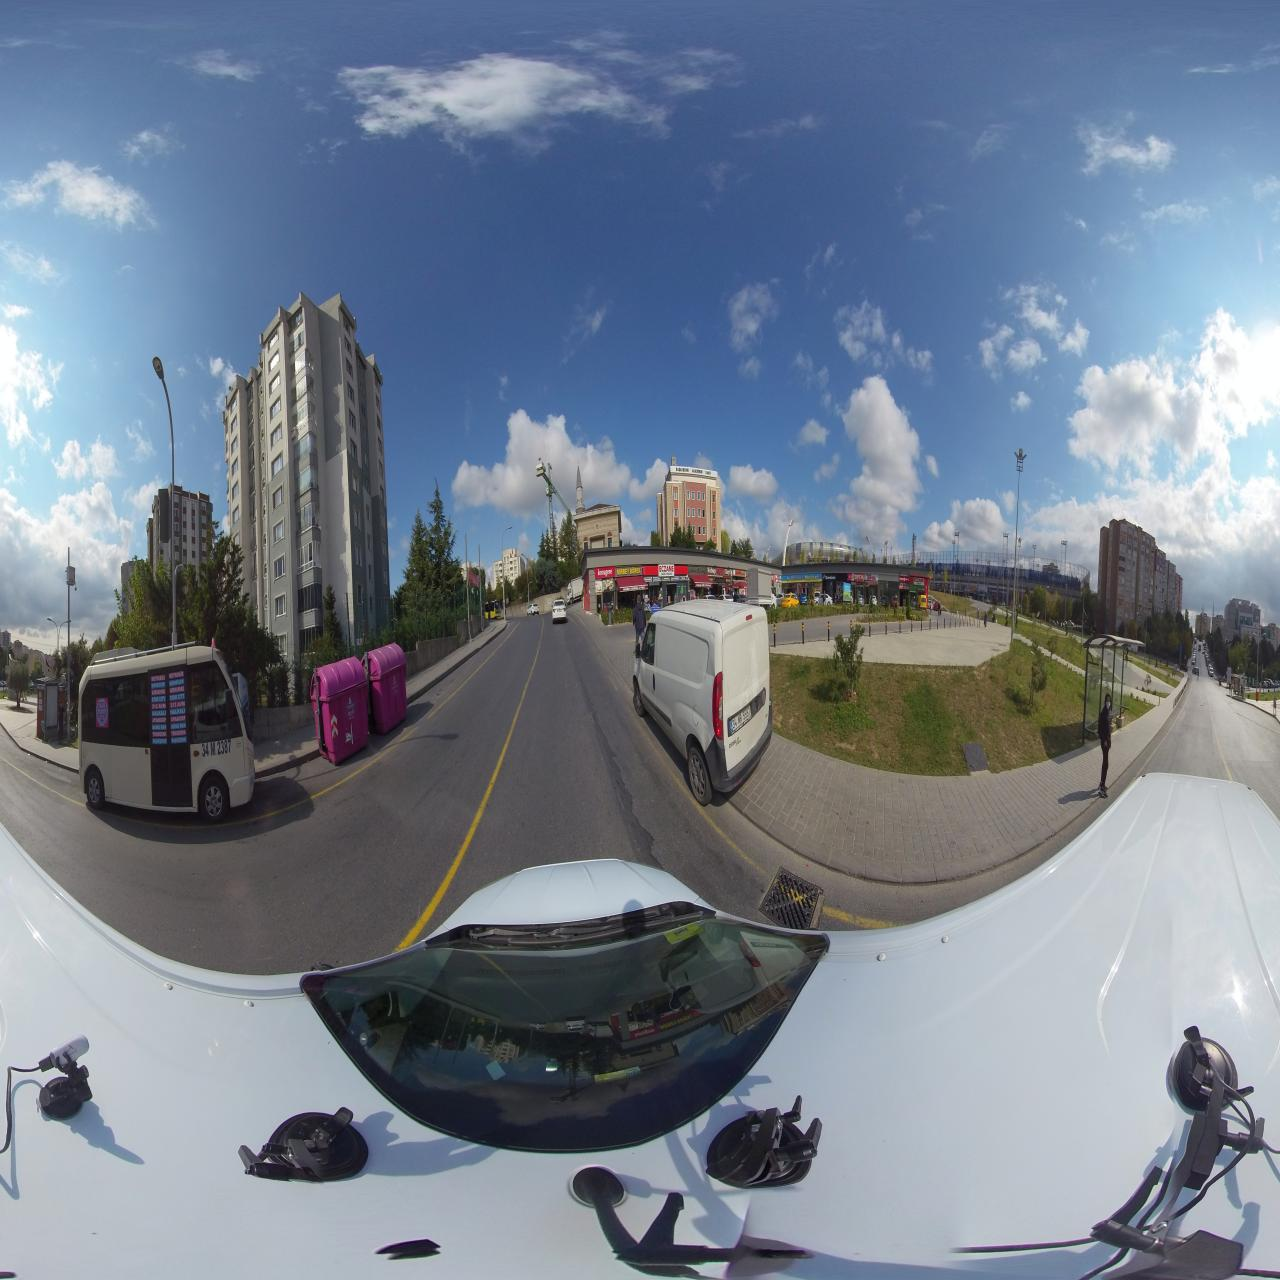SignStore: (787, 573, 819, 583), (655, 564, 679, 577), (617, 566, 641, 577), (707, 566, 730, 577), (597, 566, 614, 579), (823, 573, 846, 581), (689, 566, 707, 574), (847, 573, 864, 580), (912, 577, 926, 585), (734, 568, 745, 577), (866, 574, 878, 580), (899, 577, 910, 583), (774, 576, 781, 583)
